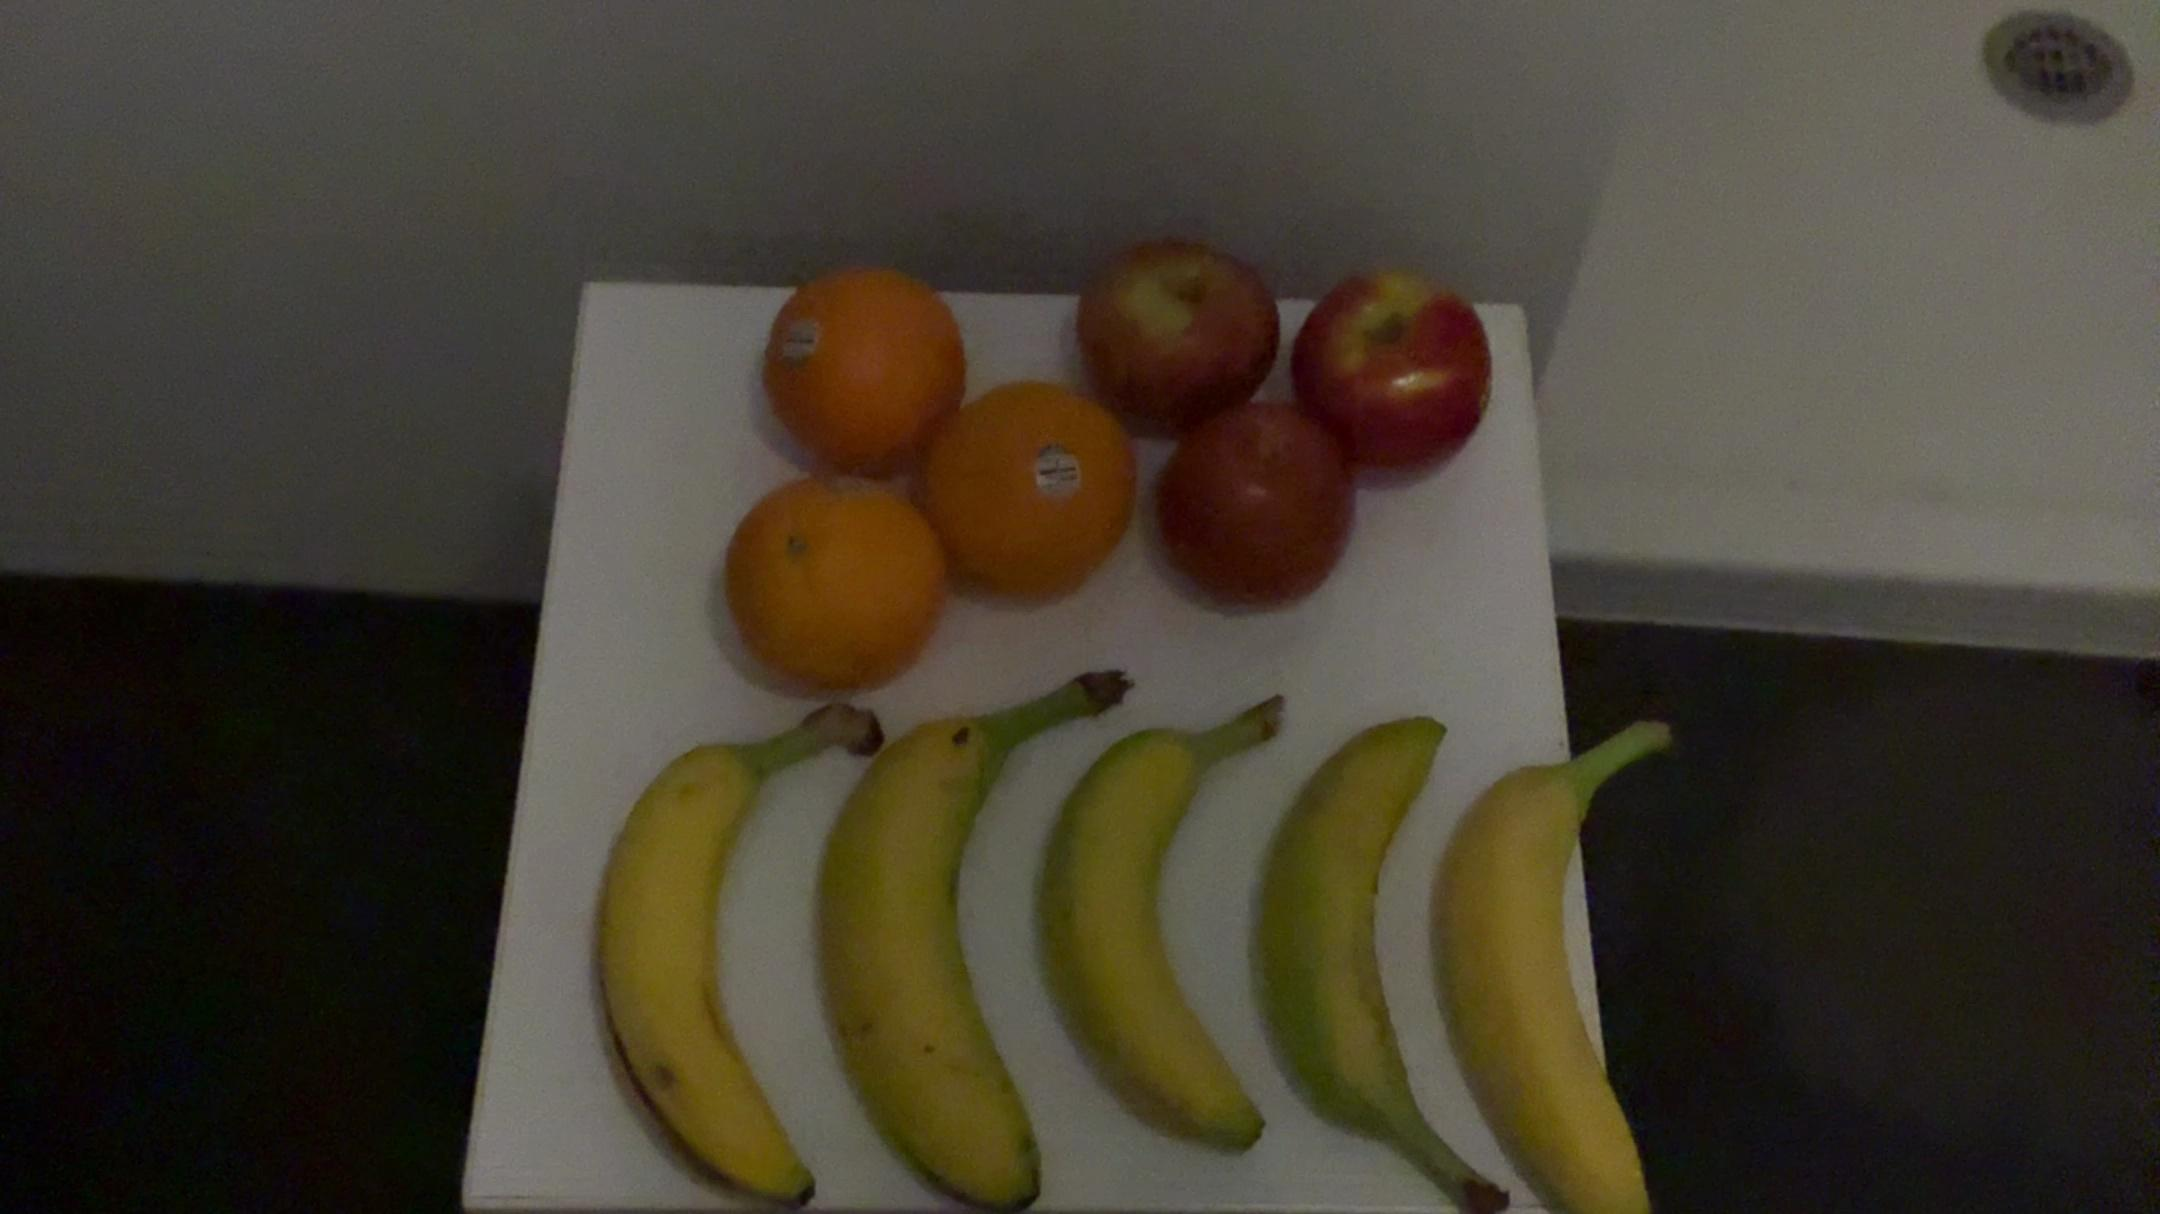apple: (1136, 401, 1357, 629), (1273, 257, 1491, 482), (1067, 221, 1280, 429)
banana: (811, 643, 1142, 1214), (1421, 683, 1721, 1214), (1254, 680, 1544, 1214), (1018, 666, 1304, 1184), (582, 689, 860, 1210)
orange: (917, 361, 1129, 629), (748, 249, 975, 475), (715, 463, 936, 692)
